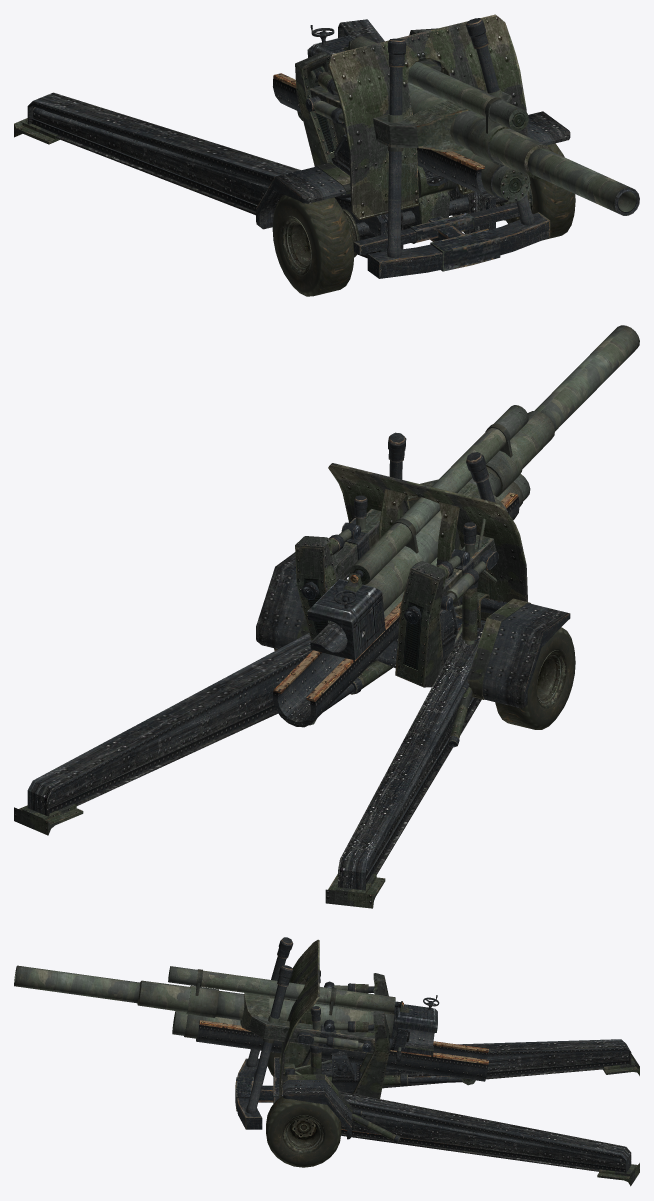
Rendered from Artillery.obj.
3 views of the same model, one above another, from view 1: azimuth 30°, elevation 25°; view 2: azimuth 150°, elevation 25°; view 3: azimuth 270°, elevation 25° (orthographic). The views are drawn at different scales.
Parts seen in each view (by area): view 1: Artillery; view 2: Artillery; view 3: Artillery.
Boxes of the visible parts, x1,y1,x2,y2 form: Artillery: (14, 14, 639, 296); Artillery: (14, 325, 639, 908); Artillery: (14, 937, 639, 1186).
Bounding box in the file's own units: 292 × 189 × 621.
4 materials, 3 textured.
